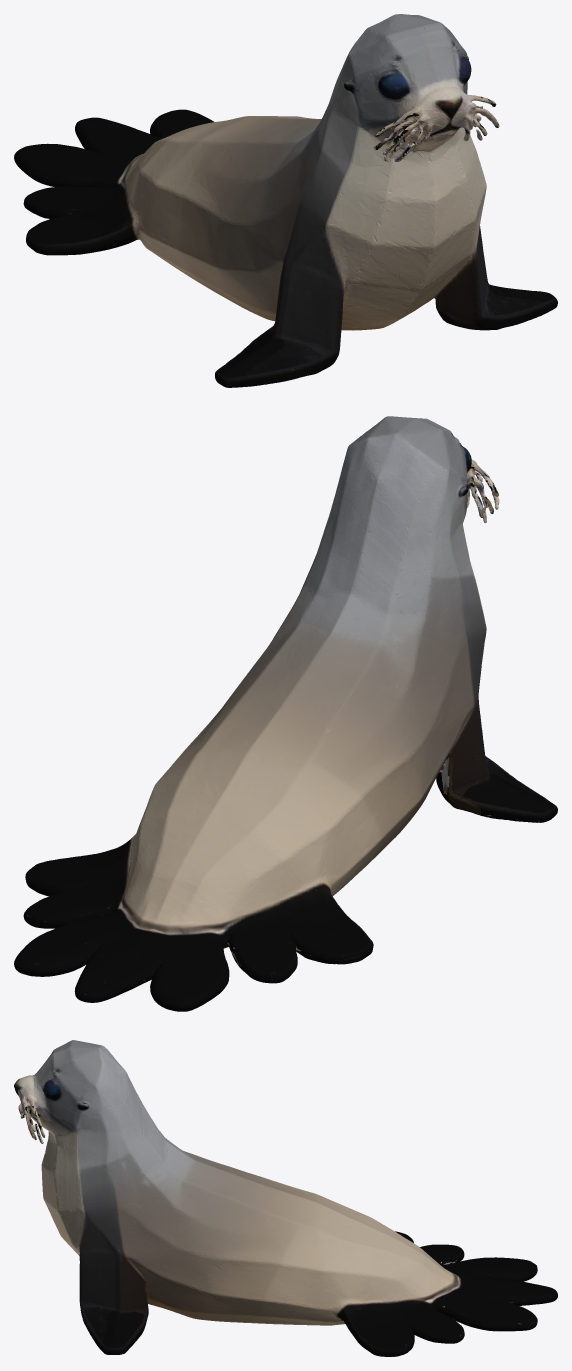
The picture shows the model from 3 angles, top to bottom: view 1: azimuth 30°, elevation 25°; view 2: azimuth 150°, elevation 25°; view 3: azimuth 270°, elevation 25°; orthographic projection. The views are drawn at different scales.
Visible parts, largest first — view 1: world; view 2: world; view 3: world.
Part boxes in pixels (bbox=[...]): world: bbox=[14, 14, 557, 387]; world: bbox=[14, 416, 557, 1011]; world: bbox=[14, 1040, 557, 1356].
Size of the model in its own units: 1.05 by 1.02 by 1.99.
1 material, 1 textured.
